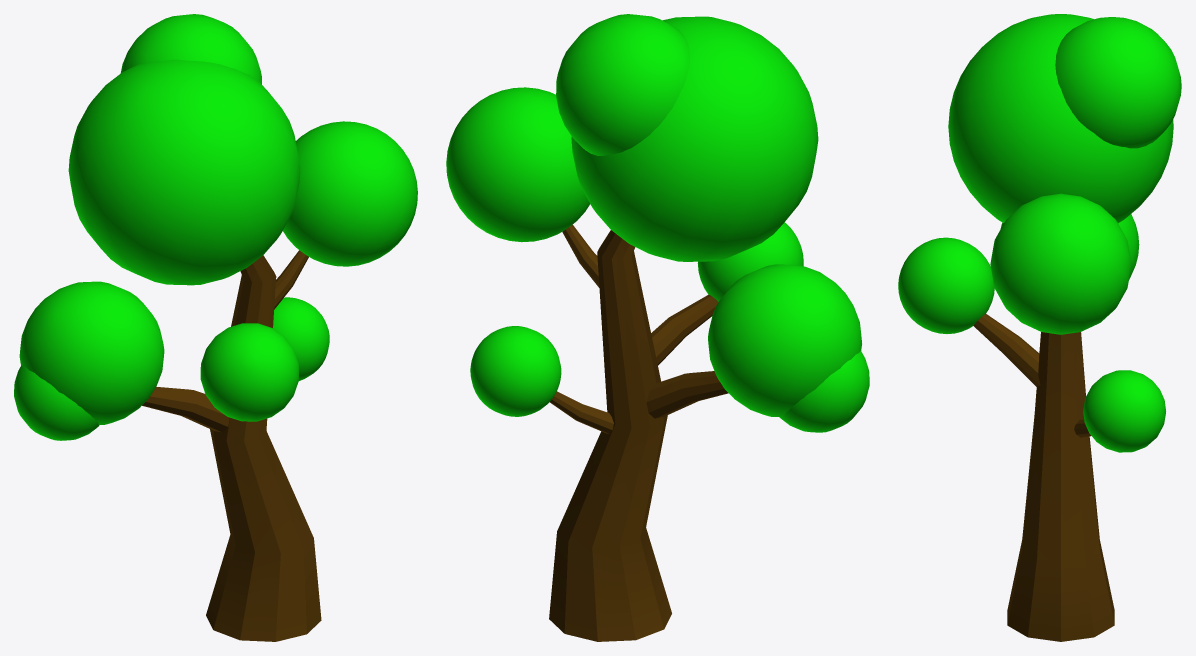
Rendered from tree_3.fbx.
3 views of the same model, side by side, from view 1: azimuth 30°, elevation 25°; view 2: azimuth 150°, elevation 25°; view 3: azimuth 270°, elevation 25° (orthographic). The views are drawn at different scales.
Visible parts, largest first — view 1: tree_02_pCylinder20; view 2: tree_02_pCylinder20; view 3: tree_02_pCylinder20.
Part boxes in pixels (left/top/right/bottom): tree_02_pCylinder20: left=14, top=14, right=417, bottom=641; tree_02_pCylinder20: left=446, top=14, right=869, bottom=641; tree_02_pCylinder20: left=898, top=14, right=1181, bottom=641.
Size of the model in its own units: 8.92 by 13.07 by 5.86.
